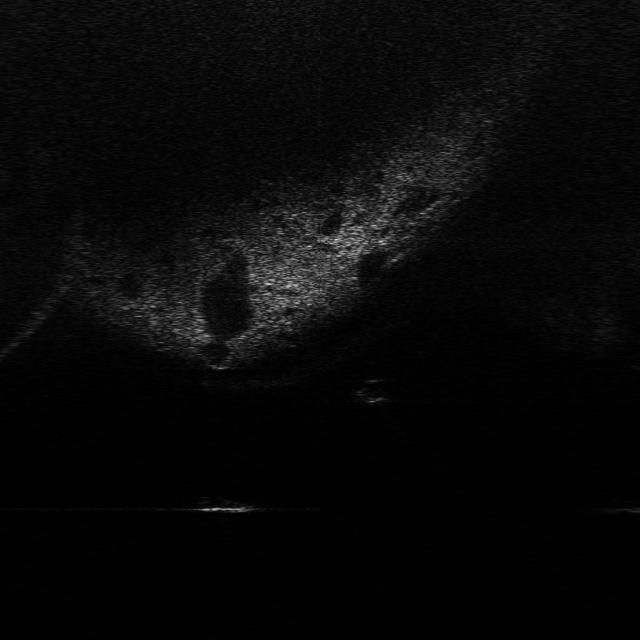ball: (352, 374, 401, 404)
cube: (191, 490, 263, 517)
